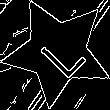L_NW: (29, 23, 86, 81)
